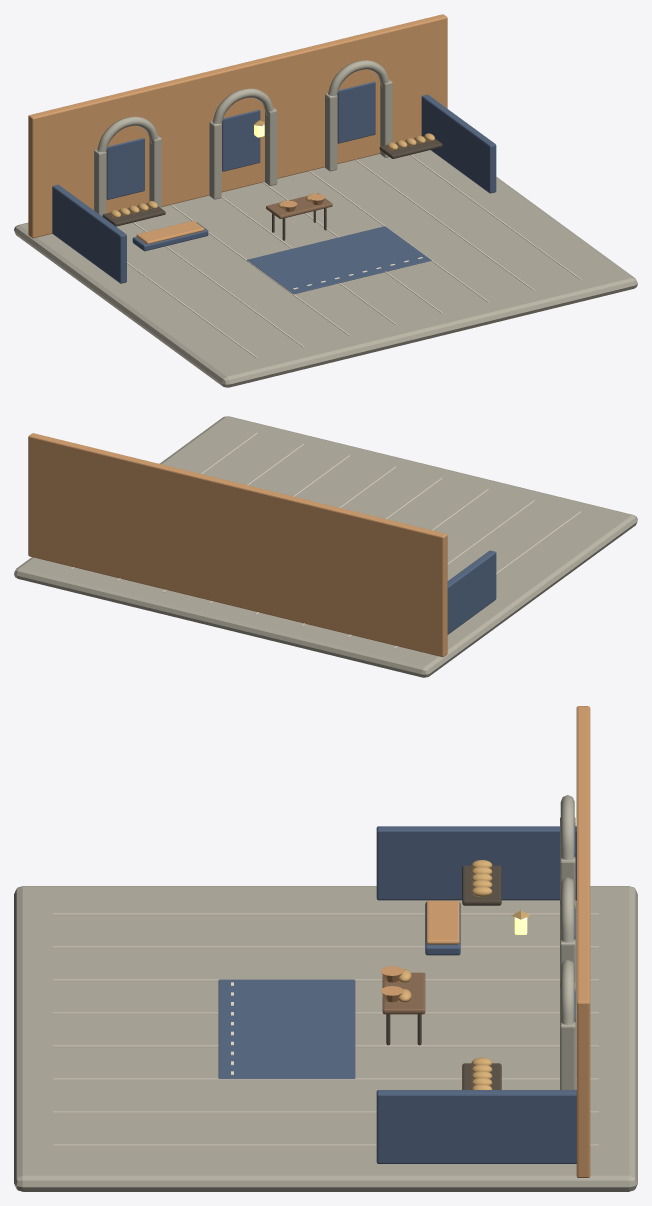
The model's file is match_shelter-DVDr1MKX.glb.
3 views of the same model, one above another, from view 1: azimuth 30°, elevation 25°; view 2: azimuth 150°, elevation 25°; view 3: azimuth 270°, elevation 25° (orthographic). The views are drawn at different scales.
Parts seen in each view (by area): view 1: world_stone.042, world_Story secondary.017, world_Story primary.017, world_Story accent.017, world_darkwood.042, world_bread.042, world_wood.042; view 2: world_Story secondary.017, world_stone.042, world_Story primary.017, world_Story accent.017; view 3: world_stone.042, world_Story primary.017, world_Story secondary.017, world_Story accent.017, world_darkwood.042, world_bread.042, world_wood.042.
Part boxes in pixels (x1,y1,x2,y2): world_stone.042: (14, 60, 637, 387); world_Story secondary.017: (28, 14, 447, 244); world_Story primary.017: (52, 81, 496, 294); world_Story accent.017: (127, 155, 581, 358); world_darkwood.042: (102, 136, 442, 240); world_bread.042: (110, 133, 434, 218); world_wood.042: (266, 193, 332, 218); world_Story secondary.017: (28, 433, 447, 657); world_stone.042: (14, 416, 637, 677); world_Story primary.017: (447, 550, 496, 634); world_Story accent.017: (70, 432, 581, 648); world_stone.042: (14, 795, 637, 1191); world_Story primary.017: (218, 826, 576, 1163); world_Story secondary.017: (426, 706, 590, 1177); world_Story accent.017: (53, 913, 598, 1145); world_darkwood.042: (386, 865, 501, 1089); world_bread.042: (471, 860, 492, 1089); world_wood.042: (382, 972, 425, 1014).
Bounding box in the file's own units: 18 × 5.46 × 16.
